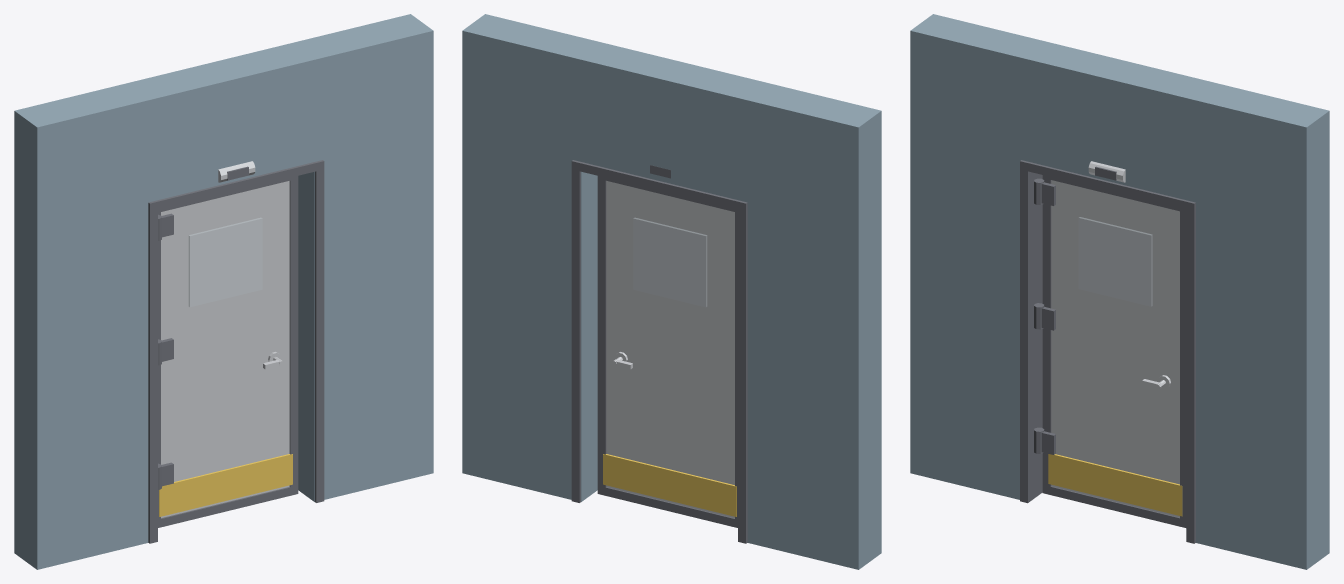
The model's file is animated-mechanisms-kit-hinged-door-ba43a8eb__24586.glb.
3 views of the same model, side by side, from view 1: azimuth 30°, elevation 25°; view 2: azimuth 150°, elevation 25°; view 3: azimuth 330°, elevation 25° (orthographic).
Parts seen in each view (by area): view 1: hinged-door, leaf/steel, leaf/iron, leaf/glass, leaf/accent; view 2: hinged-door, leaf/steel, leaf/iron, leaf/glass, leaf/accent; view 3: hinged-door, leaf/steel, leaf/iron, leaf/glass, leaf/accent.
Part boxes in pixels (x1=…): hinged-door: x1=14, y1=14, x2=433, y2=569; leaf/steel: x1=161, y1=181, x2=289, y2=517; leaf/iron: x1=158, y1=176, x2=298, y2=527; leaf/glass: x1=189, y1=218, x2=262, y2=306; leaf/accent: x1=159, y1=454, x2=292, y2=516; hinged-door: x1=462, y1=14, x2=881, y2=569; leaf/steel: x1=606, y1=181, x2=734, y2=517; leaf/iron: x1=597, y1=176, x2=737, y2=527; leaf/glass: x1=633, y1=218, x2=706, y2=306; leaf/accent: x1=603, y1=454, x2=736, y2=516; hinged-door: x1=910, y1=14, x2=1329, y2=569; leaf/steel: x1=1051, y1=180, x2=1179, y2=517; leaf/iron: x1=1042, y1=175, x2=1186, y2=527; leaf/glass: x1=1079, y1=217, x2=1152, y2=306; leaf/accent: x1=1048, y1=454, x2=1182, y2=516.
Bounding box in the file's own units: 3 × 3.2 × 0.3589.
